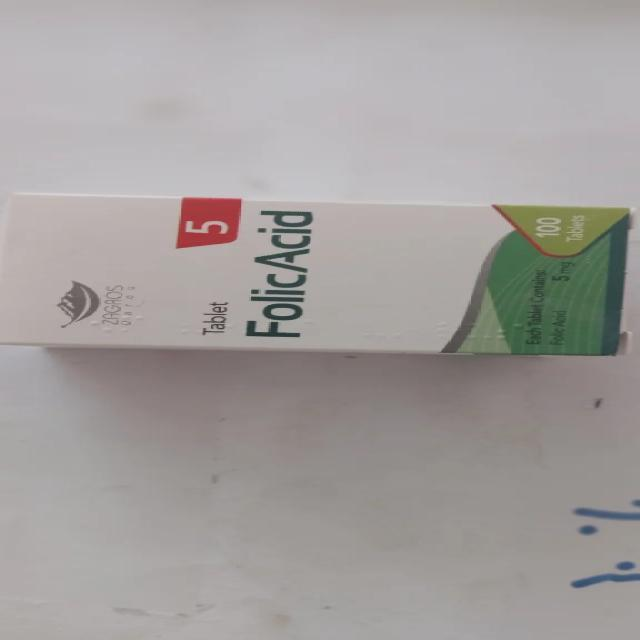drug-name: (240, 208, 322, 347)
